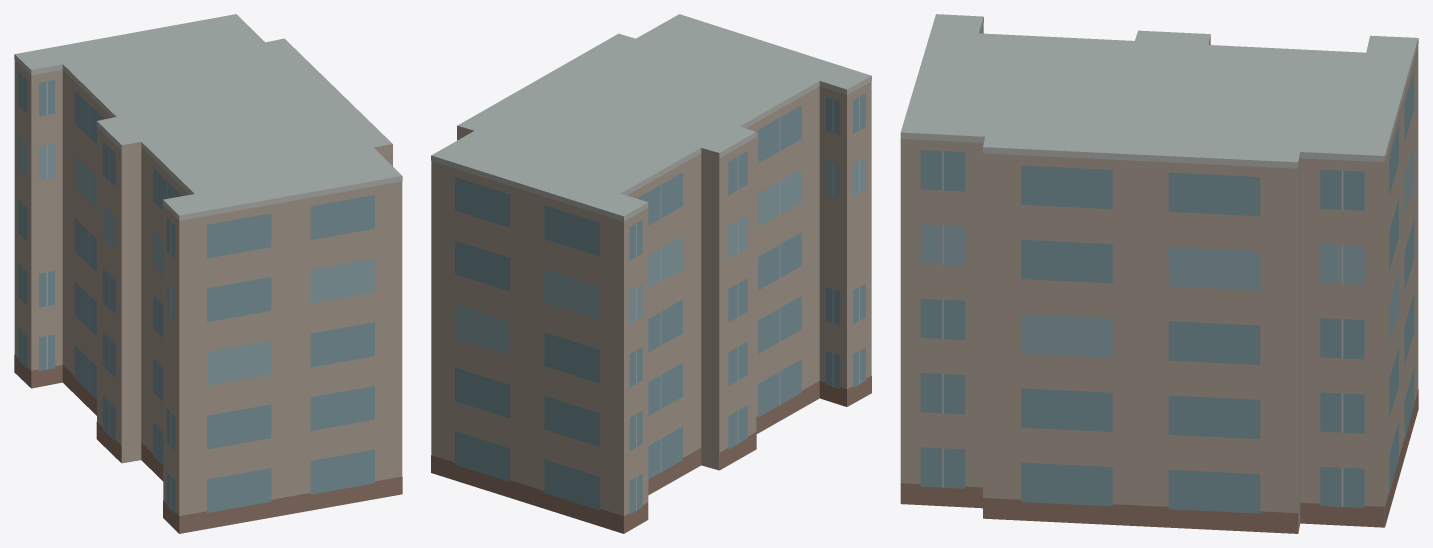
The model's file is survey-upis-32872936.glb.
3 renders of one model, left to right at view 1: azimuth 30°, elevation 25°; view 2: azimuth 150°, elevation 25°; view 3: azimuth 270°, elevation 25°, orthographic. The views are drawn at different scales.
Parts seen in each view (by area): view 1: survey-upis-32872936.tmp; view 2: survey-upis-32872936.tmp; view 3: survey-upis-32872936.tmp.
Boxes of the visible parts, x1=… form: survey-upis-32872936.tmp: x1=14, y1=14, x2=402, y2=533; survey-upis-32872936.tmp: x1=431, y1=14, x2=871, y2=533; survey-upis-32872936.tmp: x1=900, y1=14, x2=1418, y2=533.
Bounding box in the file's own units: 12.34 × 14.4 × 18.2.
